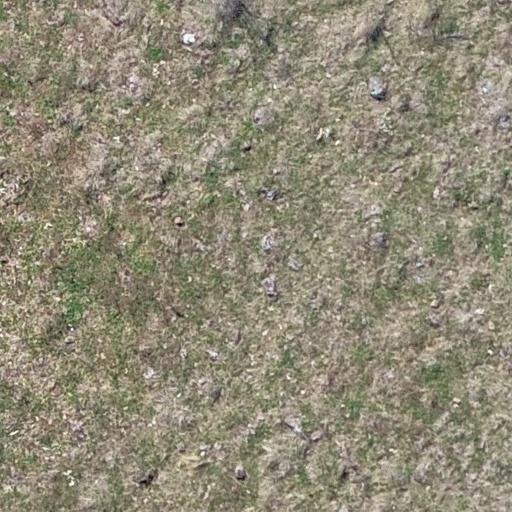stone: (262, 275, 280, 299), (201, 346, 222, 362), (260, 234, 276, 254), (316, 371, 332, 389), (63, 470, 78, 488), (287, 256, 303, 272), (191, 238, 206, 255), (391, 178, 405, 196), (137, 346, 155, 360), (426, 312, 443, 326), (169, 306, 186, 320), (387, 163, 405, 176), (210, 388, 223, 406), (72, 427, 88, 441), (480, 80, 494, 96), (109, 14, 125, 28), (338, 466, 352, 482), (156, 173, 168, 191), (232, 328, 243, 347), (142, 366, 156, 380), (234, 466, 248, 480), (499, 346, 512, 360), (310, 430, 324, 442), (260, 443, 274, 455), (174, 218, 187, 230), (63, 334, 76, 346), (430, 298, 442, 310), (266, 189, 278, 201), (72, 122, 84, 133), (487, 319, 497, 332), (432, 186, 441, 200), (412, 274, 424, 284), (240, 143, 252, 153), (467, 200, 479, 210), (179, 347, 187, 361), (258, 188, 268, 198), (488, 282, 496, 294), (42, 222, 54, 230), (242, 202, 251, 212), (0, 257, 10, 266), (474, 307, 485, 315), (112, 135, 122, 143), (9, 429, 19, 437), (452, 397, 461, 405), (312, 231, 320, 240), (486, 348, 494, 356), (261, 329, 269, 337), (334, 139, 342, 146), (68, 327, 75, 333), (200, 451, 206, 457)
